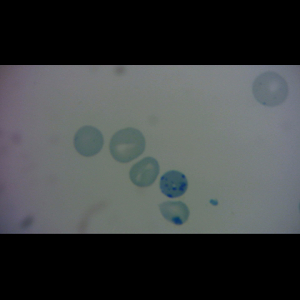aggregate reticulocyte: (158, 170, 189, 199)
erythrocyte: (107, 126, 147, 165), (128, 156, 161, 189), (156, 199, 191, 226)
punctate reticulocyte: (251, 70, 290, 107), (72, 124, 106, 158)
